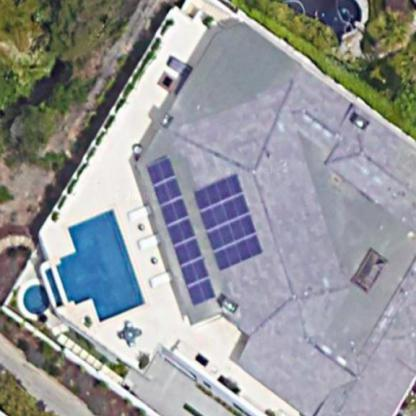solar_panel: (135, 154, 219, 315), (194, 153, 255, 263)
swimming_pool: (27, 200, 149, 333)
